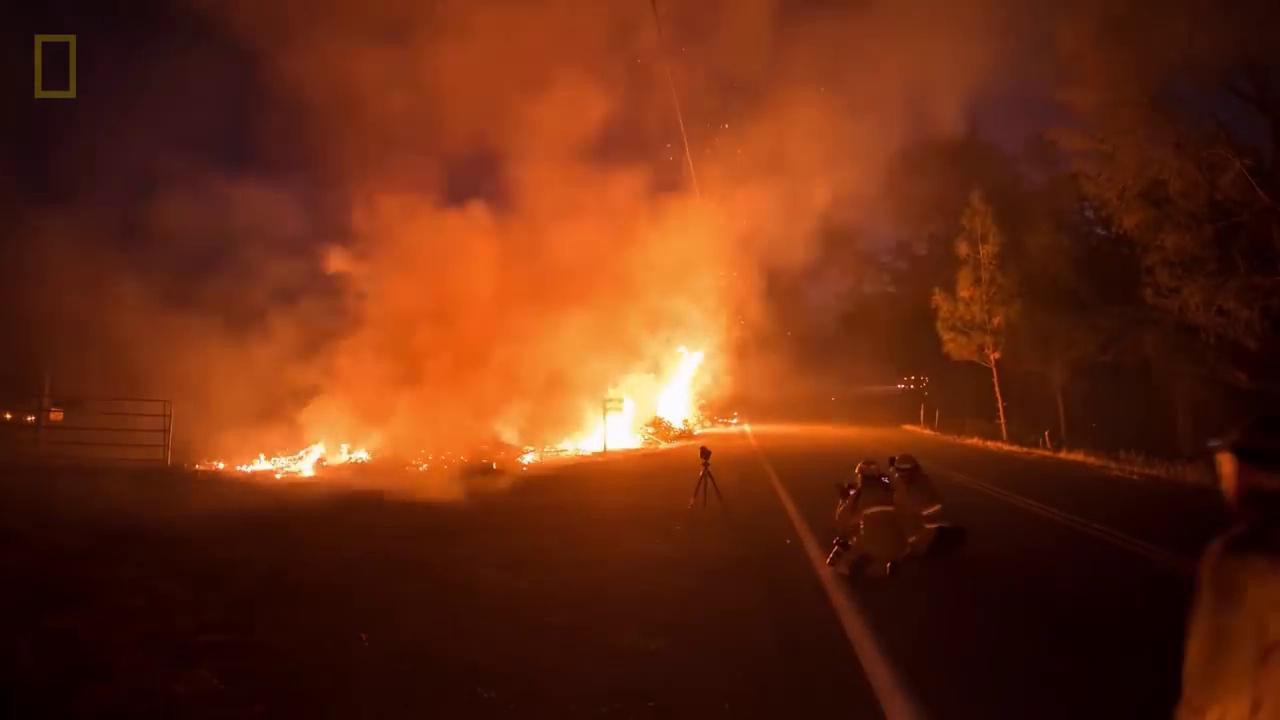Fire: (516, 348, 709, 472), (244, 440, 373, 487), (193, 459, 227, 472)
